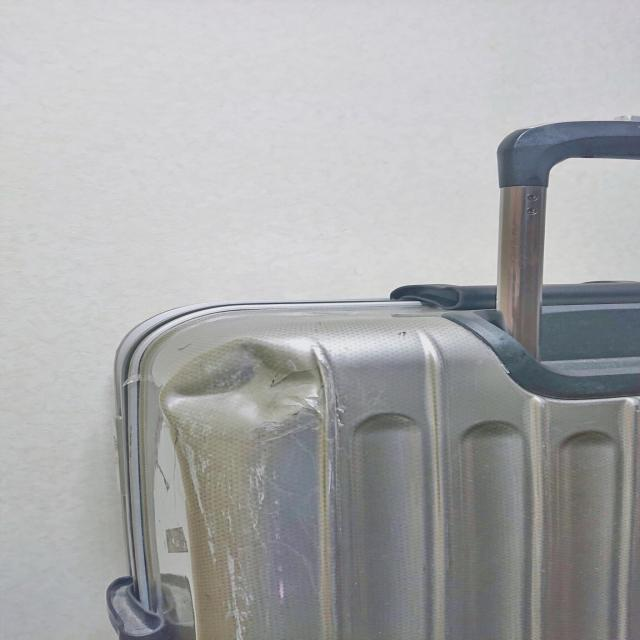Damage-bag: (156, 336, 347, 639)
